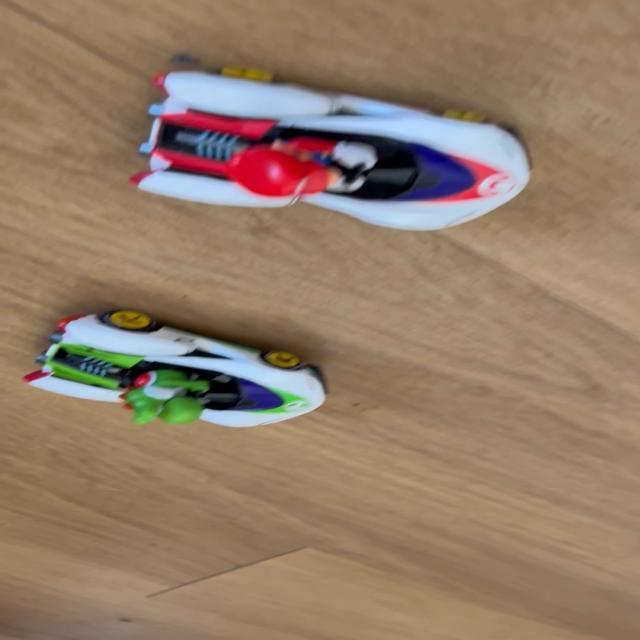mario: (104, 65, 557, 246)
yoshi: (29, 302, 343, 438)
